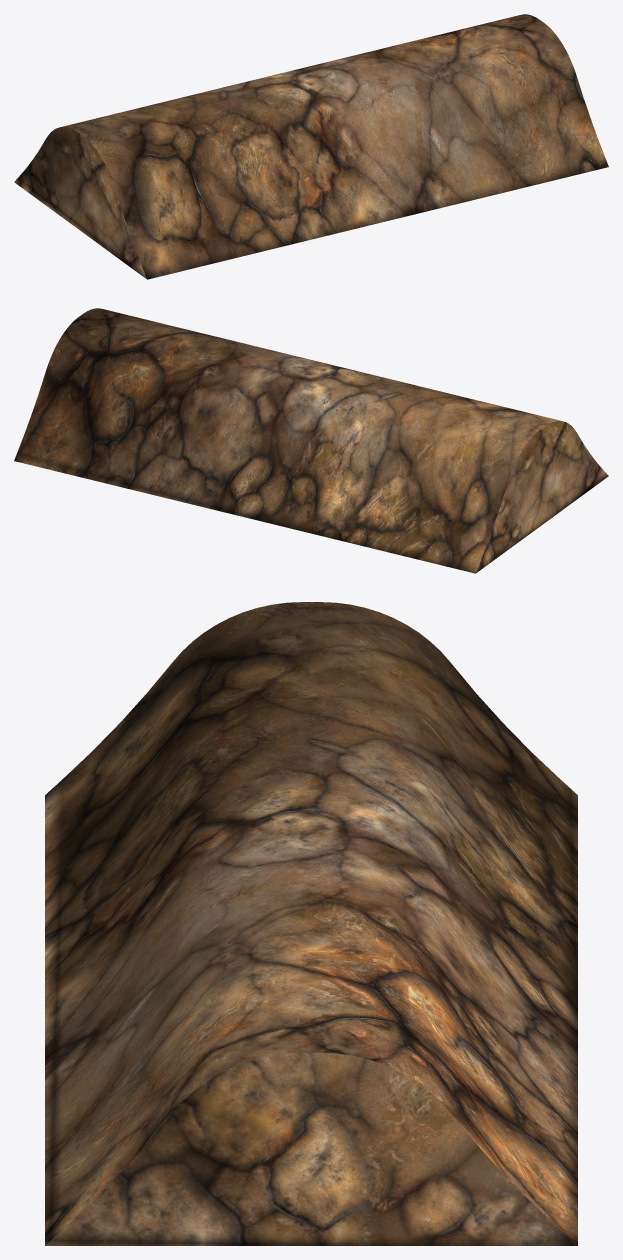
The model's file is furrow.dae.
The picture shows the model from 3 angles, top to bottom: view 1: azimuth 30°, elevation 25°; view 2: azimuth 150°, elevation 25°; view 3: azimuth 270°, elevation 25°; orthographic projection. The views are drawn at different scales.
Visible parts, largest first — view 1: furrow; view 2: furrow; view 3: furrow.
Boxes of the visible parts, x1,y1,x2,y2 form: furrow: (14, 14, 608, 279); furrow: (14, 308, 608, 573); furrow: (45, 602, 577, 1245).
Size of the model in its own units: 1 by 0.5 by 0.2.
1 material, 1 textured.
